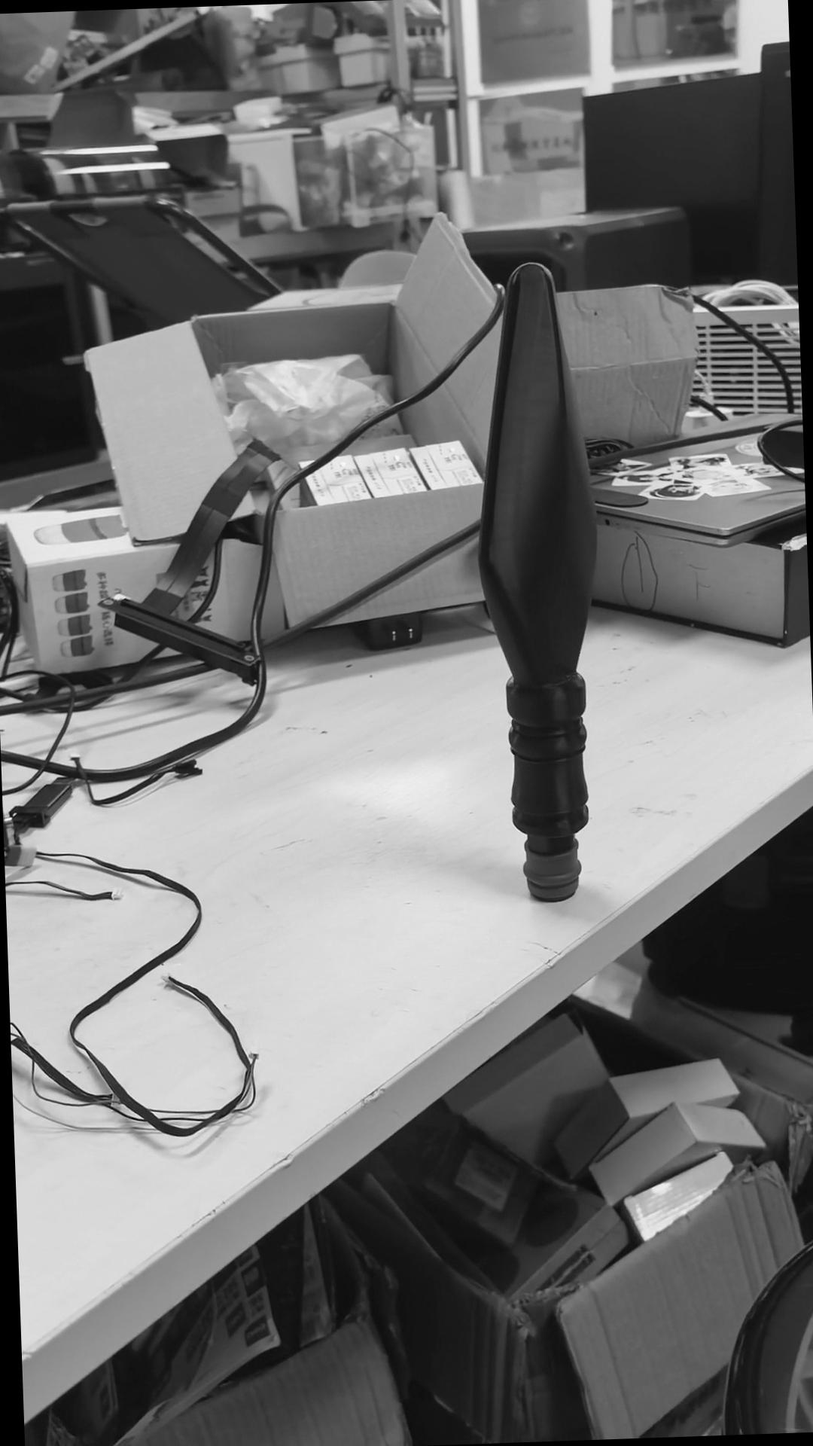base: (521, 838, 592, 912)
